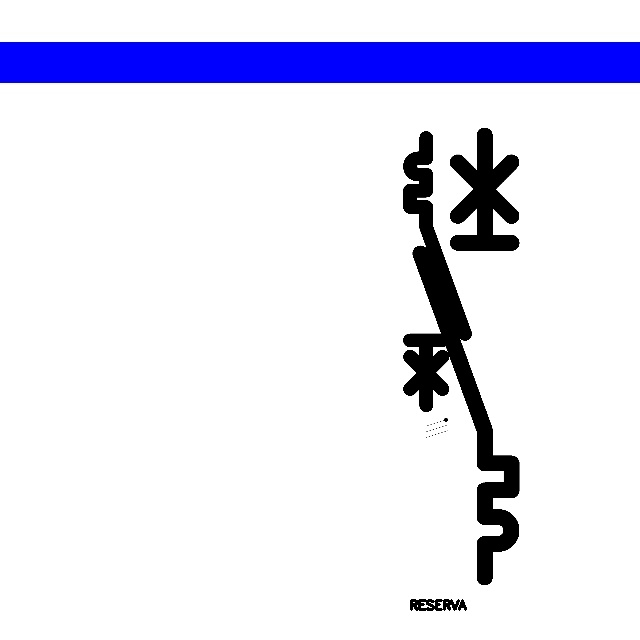interruptor_termomagnetico: (409, 124, 523, 589), (403, 131, 472, 412)
